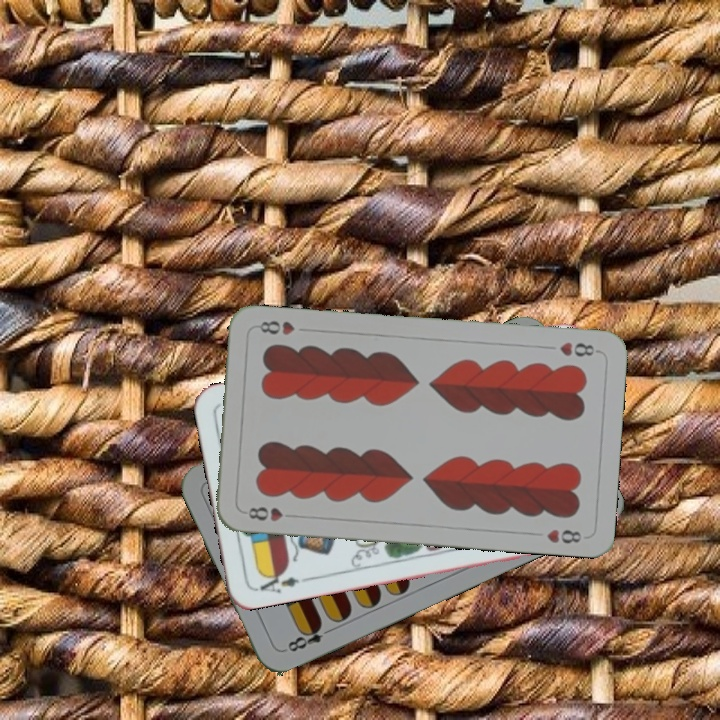E8: (283, 618, 336, 655)
EA: (252, 567, 302, 596)
H8: (244, 503, 299, 524), (555, 338, 601, 359)
